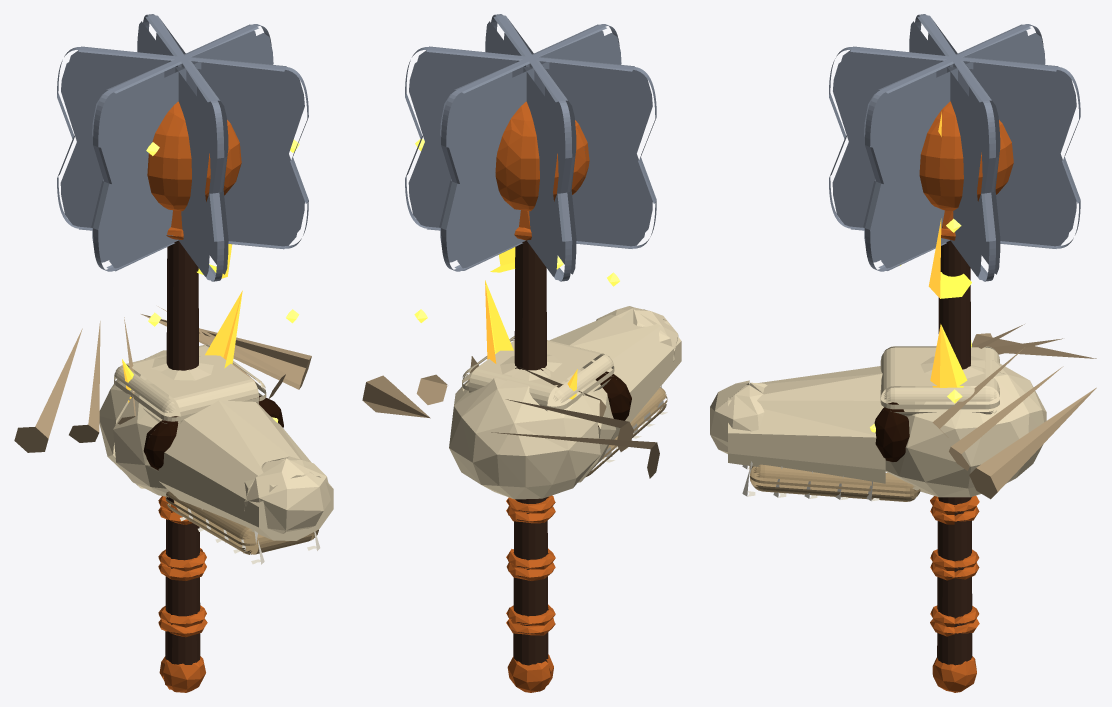
File: dragonmaw_great_mace.glb
3 renders of one model, left to right at view 1: azimuth 30°, elevation 25°; view 2: azimuth 150°, elevation 25°; view 3: azimuth 270°, elevation 25°, orthographic.
Visible parts, largest first — view 1: dragonmaw_great_mace; view 2: dragonmaw_great_mace; view 3: dragonmaw_great_mace.
Boxes of the visible parts, x1,y1,x2,y2 form: dragonmaw_great_mace: (14, 14, 333, 692); dragonmaw_great_mace: (362, 14, 681, 692); dragonmaw_great_mace: (710, 14, 1096, 692).
Bounding box in the file's own units: 0.8638 × 1.78 × 0.9873.
